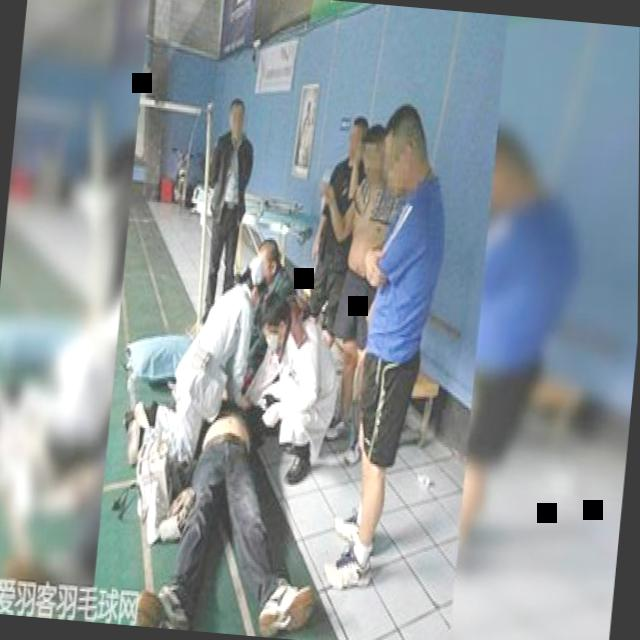Fall-Detected: (124, 384, 350, 640)
